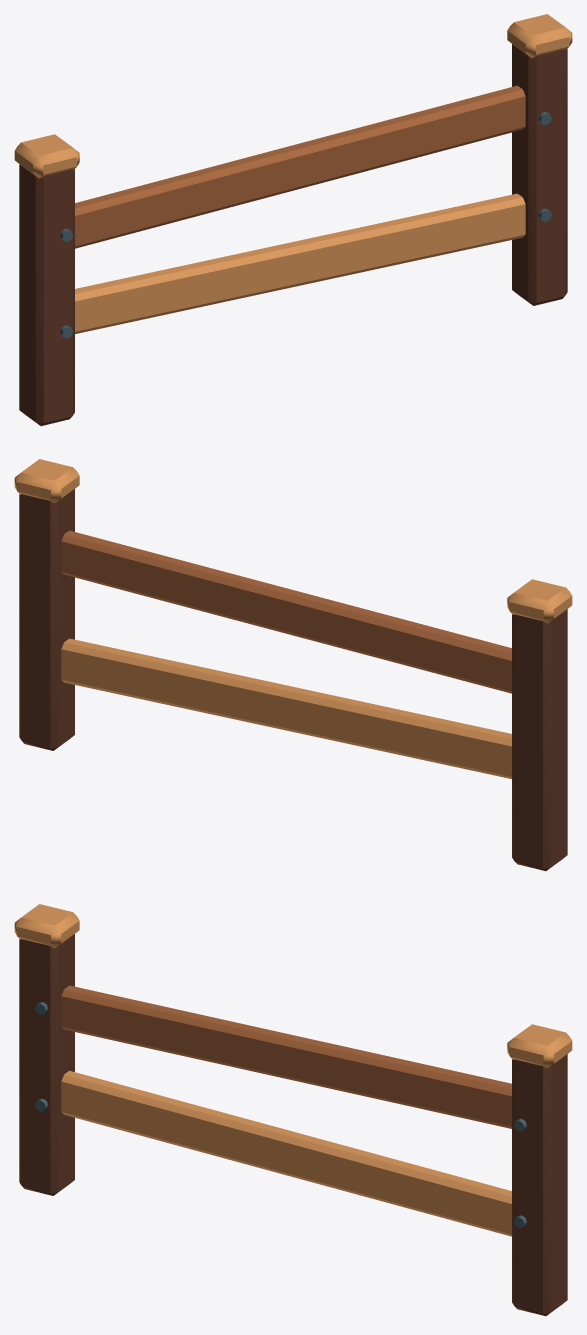
The model's file is fence.glb.
3 views of the same model, one above another, from view 1: azimuth 30°, elevation 25°; view 2: azimuth 150°, elevation 25°; view 3: azimuth 330°, elevation 25° (orthographic).
Visible parts, largest first — view 1: Fence; view 2: Fence; view 3: Fence.
Part boxes in pixels (<box>): Fence: <box>14,14,572,426</box>; Fence: <box>14,459,572,871</box>; Fence: <box>14,904,572,1316</box>.
Bounding box in the file's own units: 2.08 × 1 × 0.1785.
